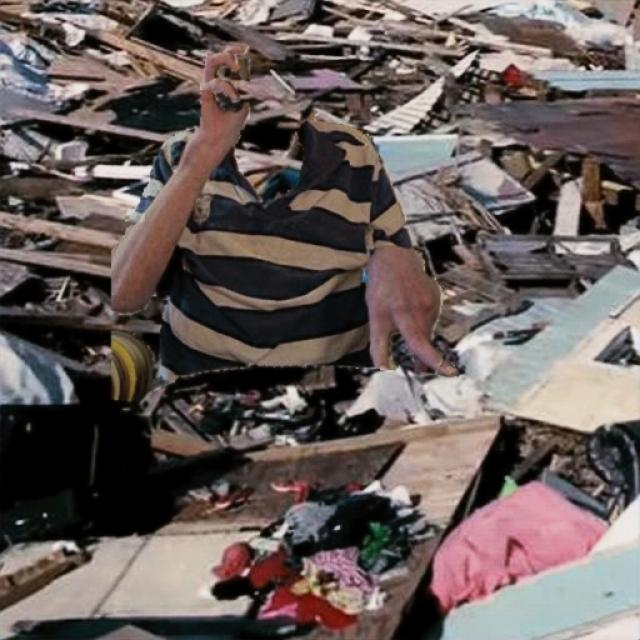Person in Rubble: (111, 46, 459, 402)
